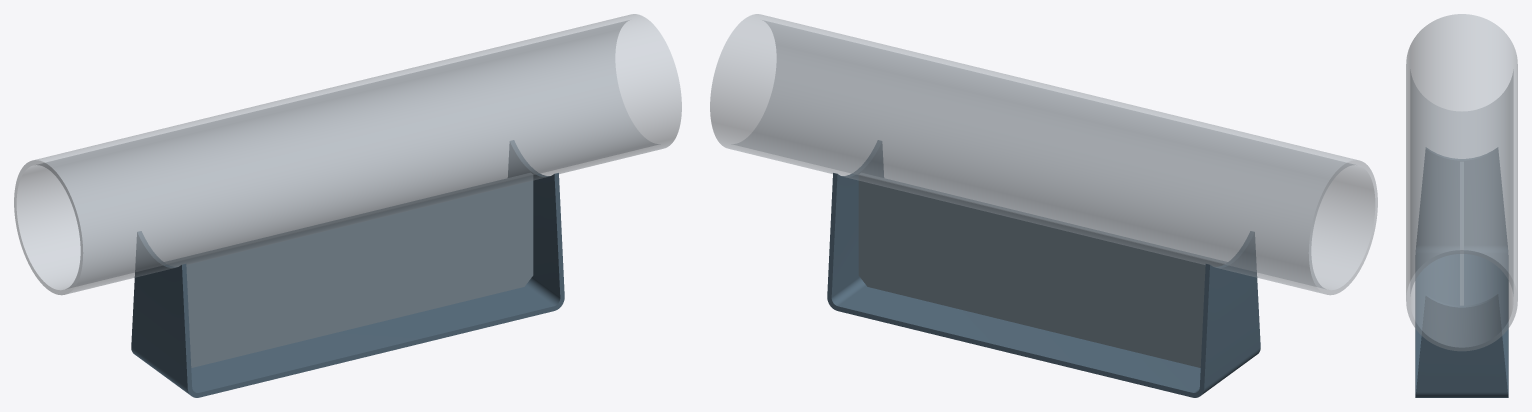
Rendered from TS-623.000-18-opora-dn108-H100-L340.glb.
The picture shows the model from 3 angles, left to right: view 1: azimuth 30°, elevation 25°; view 2: azimuth 150°, elevation 25°; view 3: azimuth 270°, elevation 25°; orthographic projection. The views are drawn at different scales.
Parts seen in each view (by area): view 1: truba, rebro, skoba; view 2: truba, rebro, skoba; view 3: truba, skoba, rebro.
Part boxes in pixels (<box>): truba: <box>14,14,681,295</box>; rebro: <box>165,173,533,367</box>; skoba: <box>131,140,564,397</box>; truba: <box>710,14,1377,295</box>; rebro: <box>858,173,1226,367</box>; skoba: <box>827,140,1260,397</box>; truba: <box>1406,14,1517,351</box>; skoba: <box>1415,148,1508,397</box>; rebro: <box>1460,162,1463,305</box>.
Size of the model in its own units: 540 by 208 by 108.
